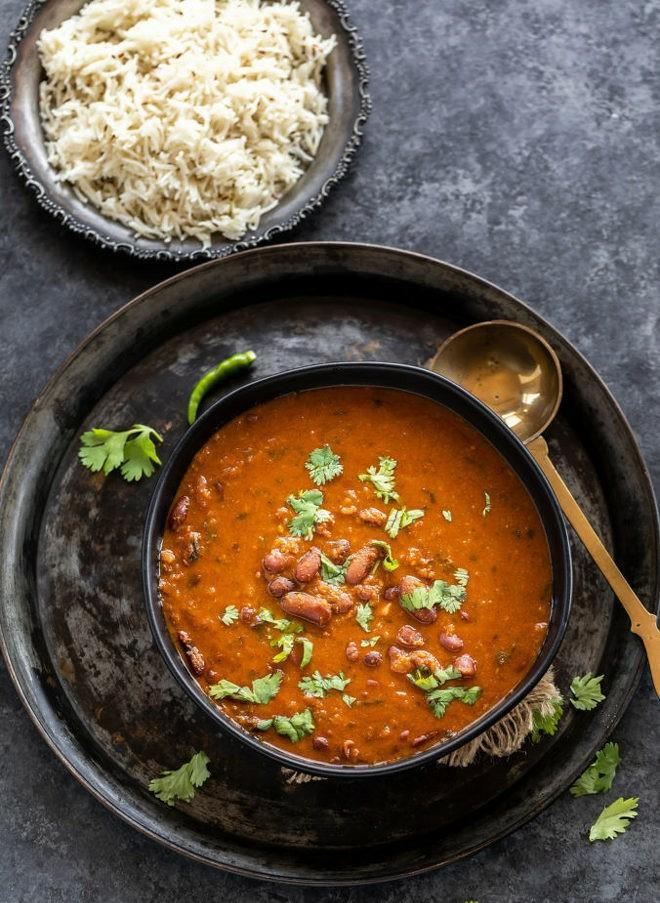RajmaCurry: (157, 379, 550, 765)
WhiteRice: (39, 0, 341, 247)
